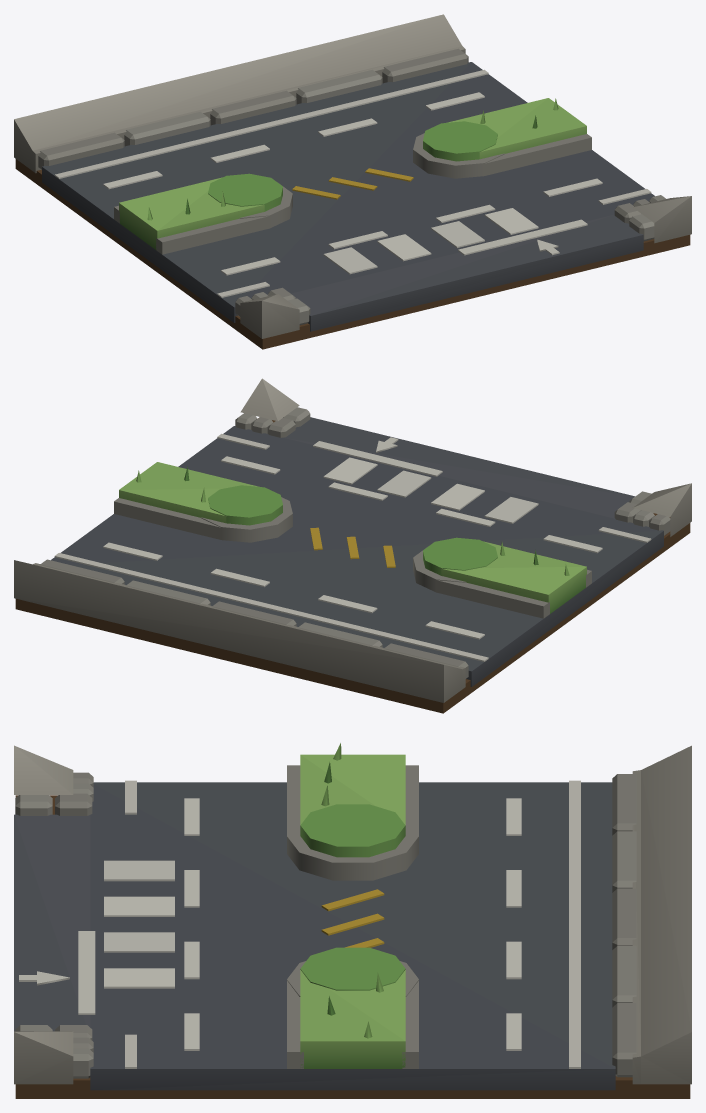
Rendered from road-avenue-tjunction-01.glb.
3 views of the same model, one above another, from view 1: azimuth 30°, elevation 25°; view 2: azimuth 150°, elevation 25°; view 3: azimuth 270°, elevation 25° (orthographic). The views are drawn at different scales.
Parts seen in each view (by area): view 1: road_avenue_tjunction_01; view 2: road_avenue_tjunction_01; view 3: road_avenue_tjunction_01.
Boxes of the visible parts, box(x1,y1,x2,y2) form: road_avenue_tjunction_01: box(14, 14, 691, 349); road_avenue_tjunction_01: box(14, 378, 691, 713); road_avenue_tjunction_01: box(14, 743, 691, 1098).
Bounding box in the file's own units: 4 × 0.5147 × 4.
